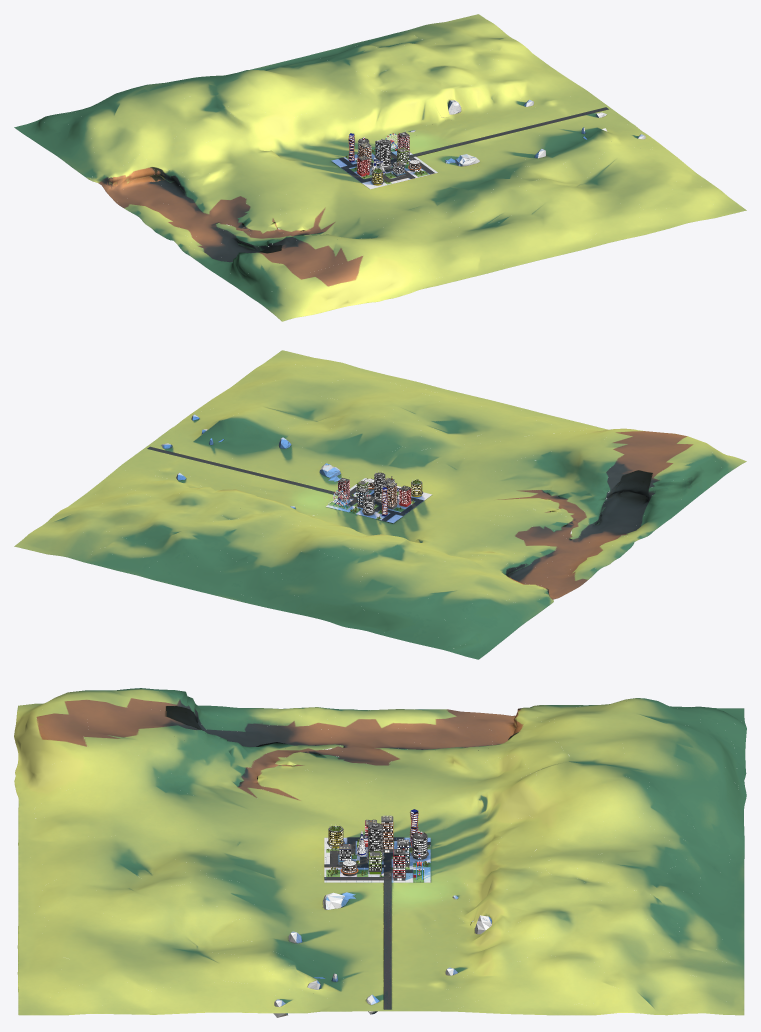
File: isometric-cityscape3.glb
3 renders of one model, top to bottom at view 1: azimuth 30°, elevation 25°; view 2: azimuth 150°, elevation 25°; view 3: azimuth 270°, elevation 25°, orthographic. The views are drawn at different scales.
Parts seen in each view (by area): view 1: Vegetation, CityBase.001, CityBase; view 2: Vegetation, CityBase.001, CityBase; view 3: Vegetation, CityBase.001, CityBase.
Part boxes in pixels (box(x1,y1,x2,y2)): Vegetation: box(14, 14, 746, 321); CityBase.001: box(338, 99, 645, 182); CityBase: box(331, 144, 437, 189); Vegetation: box(14, 350, 746, 659); CityBase.001: box(147, 414, 423, 520); CityBase: box(326, 478, 432, 523); Vegetation: box(14, 688, 746, 1015); CityBase.001: box(273, 837, 491, 1017); CityBase: box(324, 837, 430, 882).
Bounding box in the file's own units: 67.37 × 7.44 × 67.58.
Materials: 35 (7 with a texture image).
